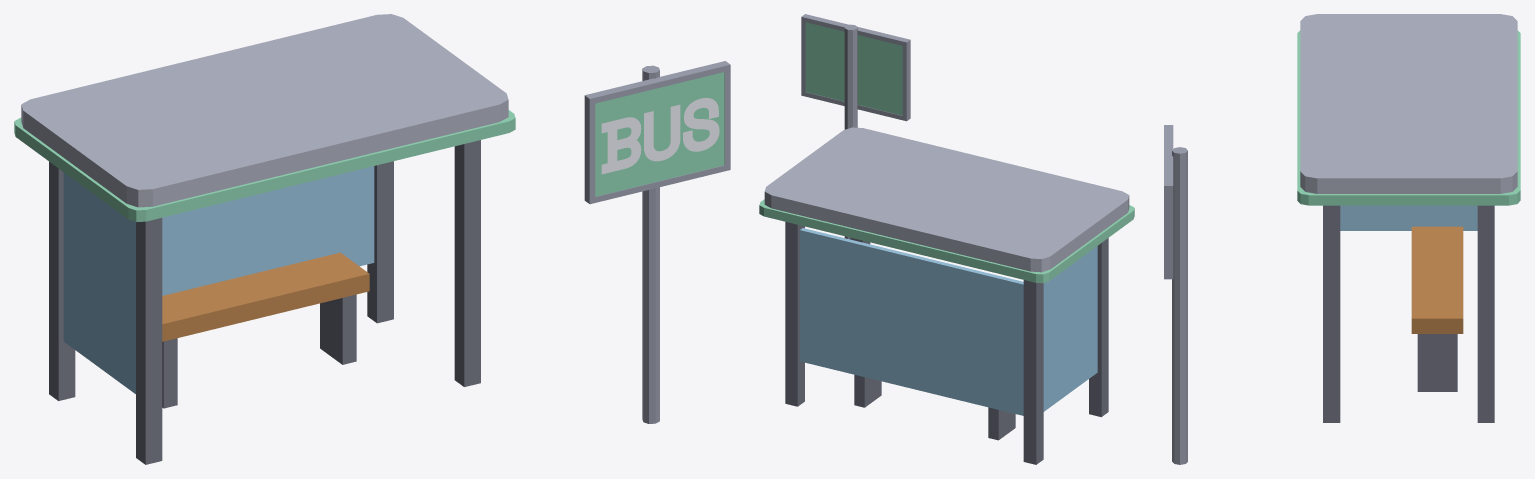
Rendered from stop-1x1-bus.glb.
3 renders of one model, left to right at view 1: azimuth 30°, elevation 25°; view 2: azimuth 150°, elevation 25°; view 3: azimuth 270°, elevation 25°, orthographic. The views are drawn at different scales.
Parts seen in each view (by area): view 1: stop-1x1-bus; view 2: stop-1x1-bus; view 3: stop-1x1-bus.
Boxes of the visible parts, x1,y1,x2,y2 form: stop-1x1-bus: (14, 14, 730, 464); stop-1x1-bus: (759, 14, 1134, 464); stop-1x1-bus: (1164, 14, 1520, 464).
Size of the model in its own units: 0.931 by 0.6 by 0.624.
Materials: 1 (1 with a texture image).
